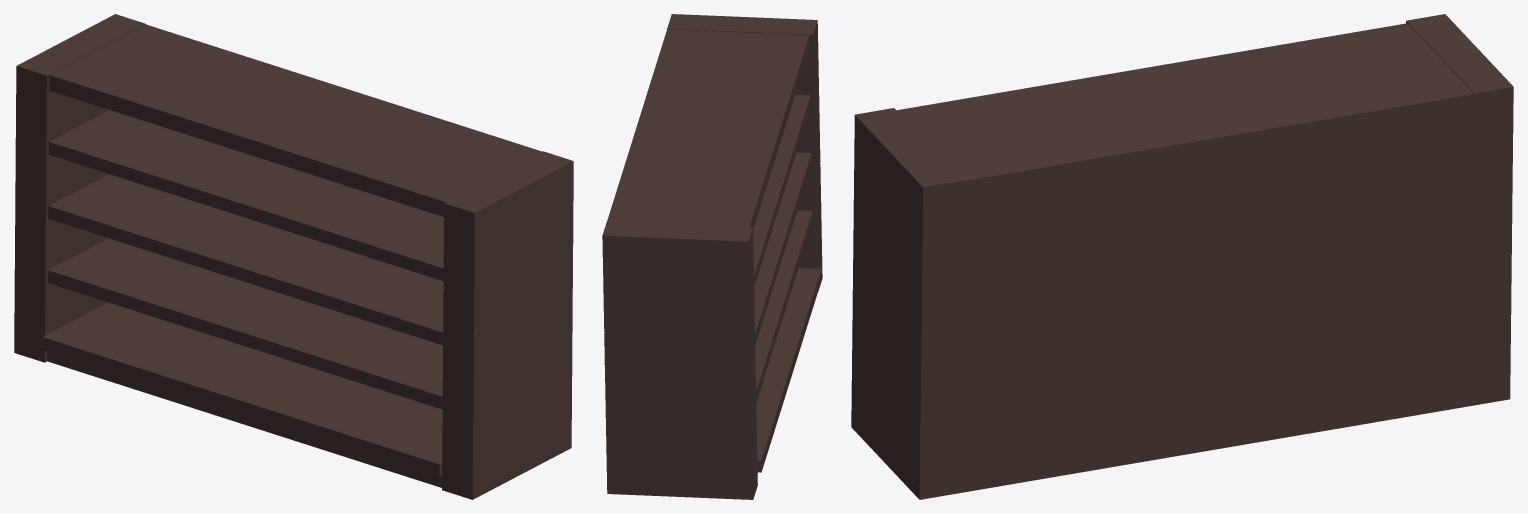
File: shelving.fbx
3 renders of one model, left to right at view 1: azimuth 30°, elevation 25°; view 2: azimuth 150°, elevation 25°; view 3: azimuth 270°, elevation 25°, orthographic. The views are drawn at different scales.
Visible parts, largest first — view 1: pCube13; view 2: pCube13; view 3: pCube13.
Part boxes in pixels (x1,y1,x2,y2): pCube13: (14,14,573,499); pCube13: (602,14,822,499); pCube13: (851,14,1513,499).
Bounding box in the file's own units: 412 × 351 × 659.
